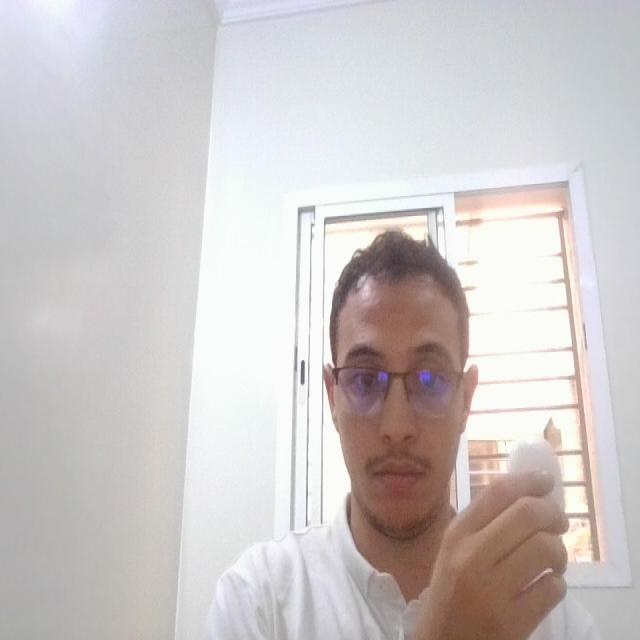airpods: (505, 437, 569, 533)
